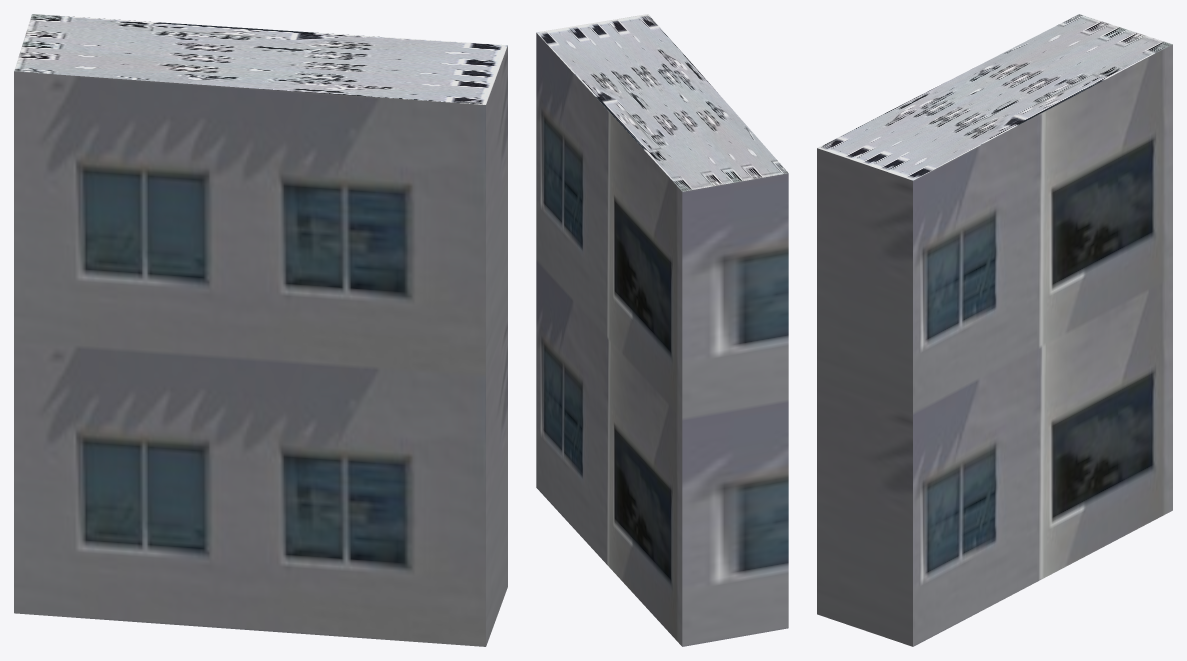
File: ResTex__1993.fbx
3 renders of one model, left to right at view 1: azimuth 30°, elevation 25°; view 2: azimuth 150°, elevation 25°; view 3: azimuth 270°, elevation 25°, orthographic. The views are drawn at different scales.
Parts seen in each view (by area): view 1: CityEngineMaterial_10_m, CityEngineMaterial_4_m; view 2: CityEngineMaterial_10_m, CityEngineMaterial_4_m; view 3: CityEngineMaterial_10_m, CityEngineMaterial_4_m.
Part boxes in pixels (box(x1,y1,x2,y2)): CityEngineMaterial_10_m: box(14, 45, 507, 646); CityEngineMaterial_4_m: box(14, 14, 507, 104); CityEngineMaterial_10_m: box(536, 33, 788, 646); CityEngineMaterial_4_m: box(536, 14, 788, 191); CityEngineMaterial_10_m: box(817, 44, 1172, 646); CityEngineMaterial_4_m: box(817, 14, 1172, 180).
Size of the model in its own units: 4.6 by 6 by 4.15.
Materials: 2 (2 with a texture image).
